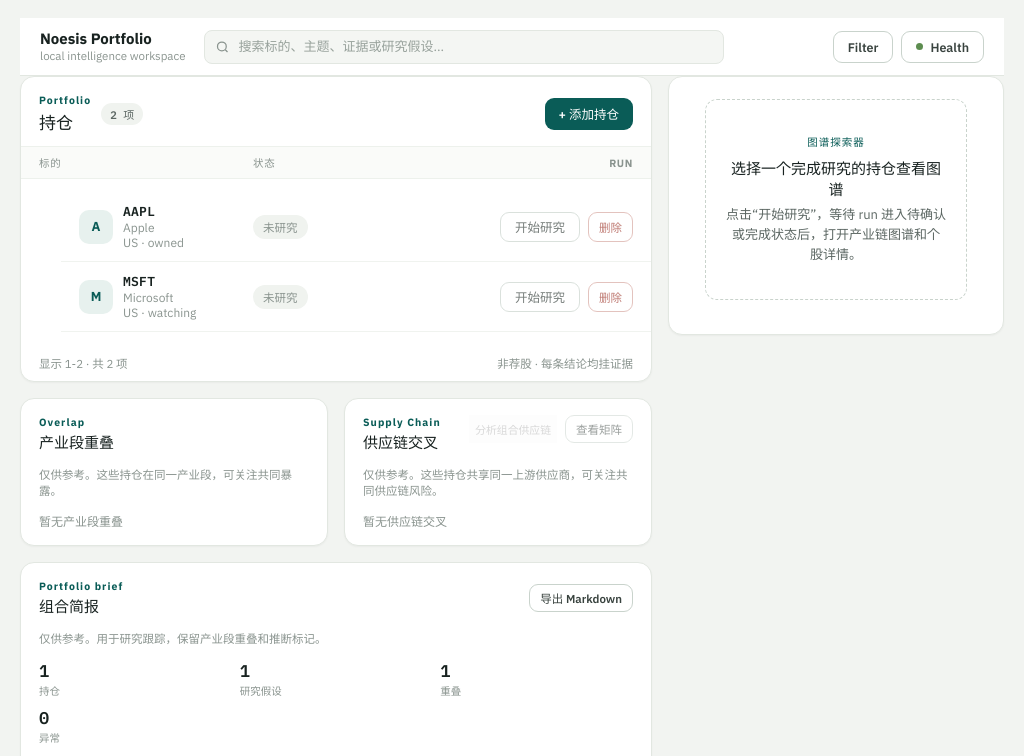
Test case: PortfolioHome › filters positions by global search and topbar filters
The width and height of the screenshot is (1024, 756).
Expected: the text "AAPL" is shown, left=123, top=203, right=155, bottom=220
Expected: the text "MSFT" is shown, left=123, top=273, right=155, bottom=290
Type "msft" into the search field named "全局搜索" at [464, 46], box left=204, top=30, right=724, bottom=64
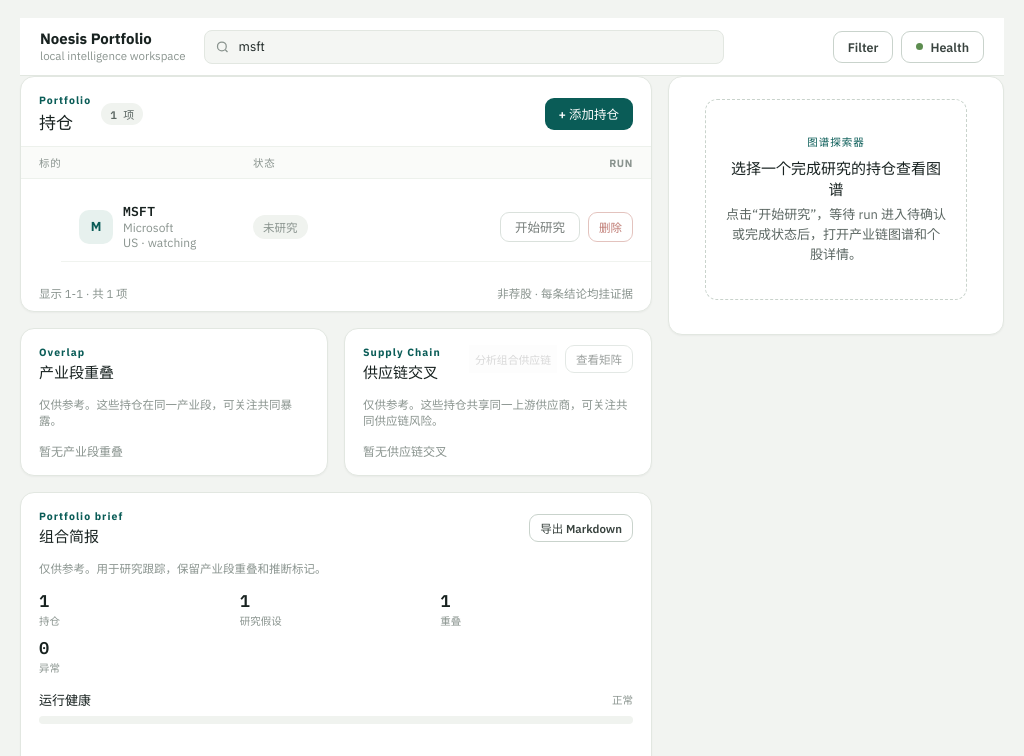
Expected: the text "AAPL" is not shown
Expected: the text "MSFT" is shown, left=123, top=203, right=155, bottom=220
Click the button with aria-label "筛选" at [863, 46], box left=833, top=30, right=893, bottom=62
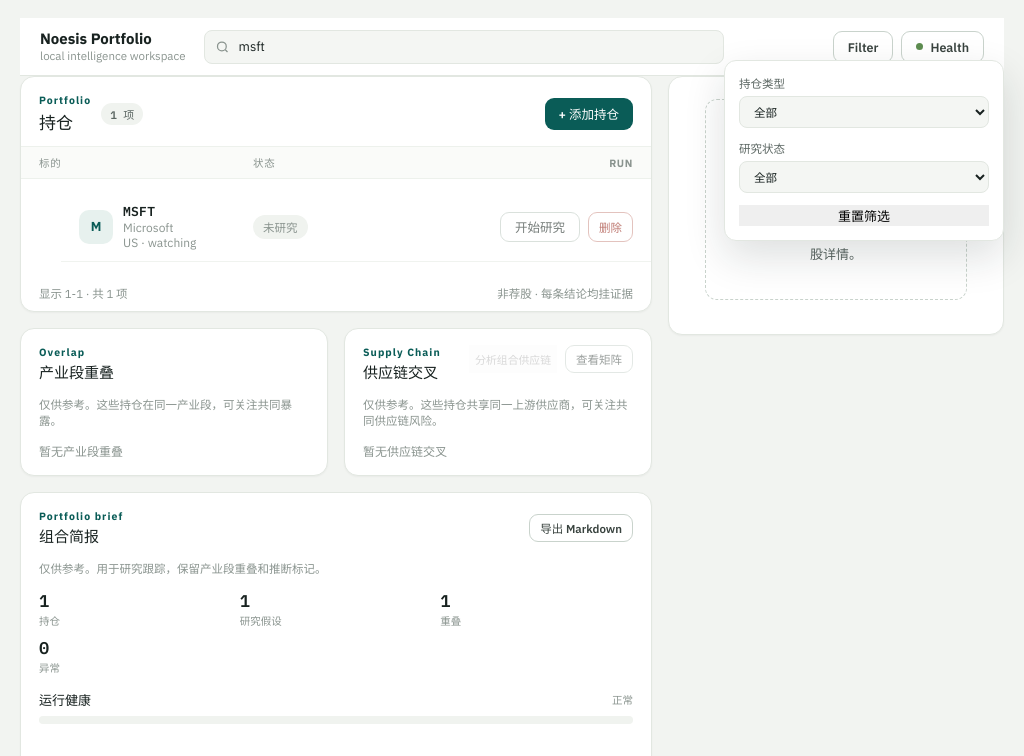
Select "owned" in the dropdown named "持仓类型筛选" at [864, 112], box left=739, top=96, right=989, bottom=128
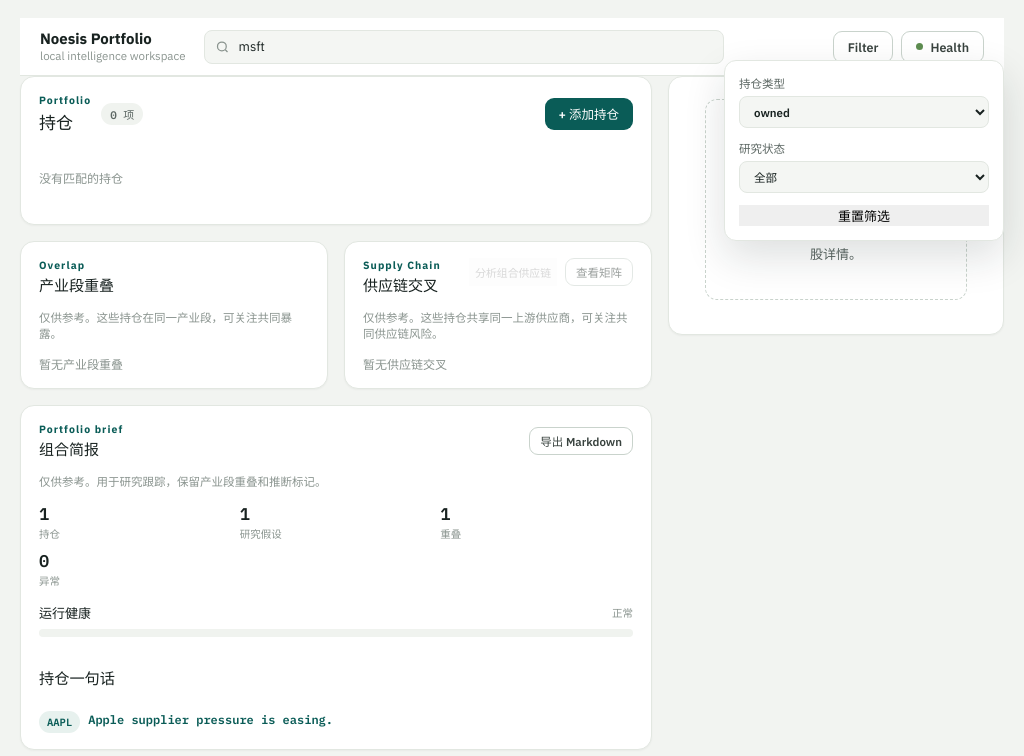
Expected: the text "没有匹配的持仓" is shown, left=39, top=171, right=123, bottom=186
